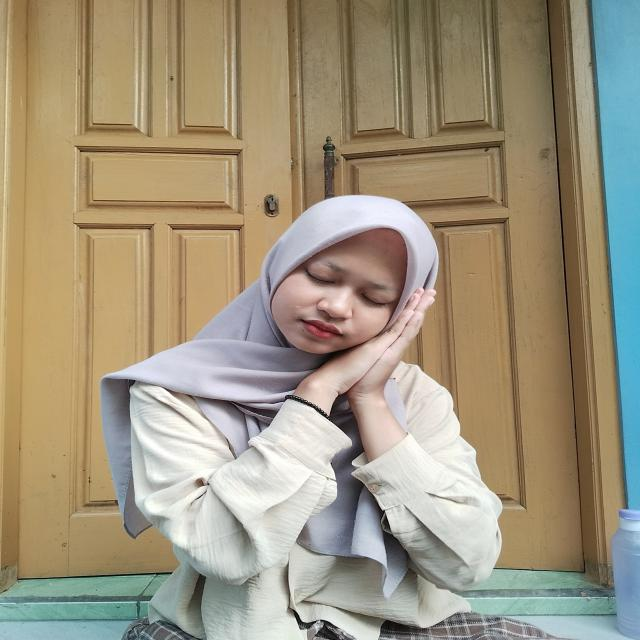tidur: (271, 286, 445, 484)
